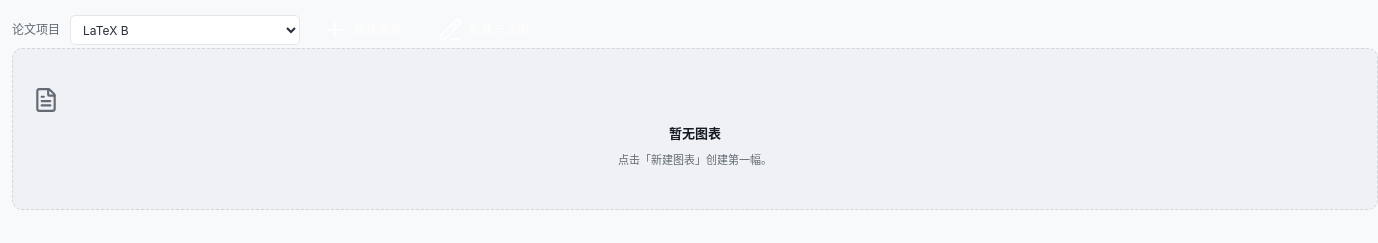
Test case: uses the selected project editor role instead of an unrelated global owner/viewer role
This screenshot has width=1378, height=243.
Later steps or results of the test are not shown.
Expected: the button with test id "figures-new" is shown, [310,12,415,48]
Select "只读 C" in the dropdown with id "figures-project": (185, 30) [70,15,300,45]
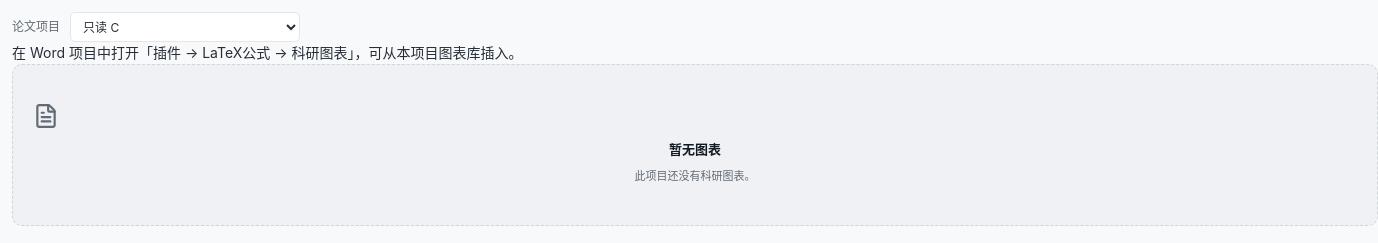
Now the button with test id "figures-new" is gone
